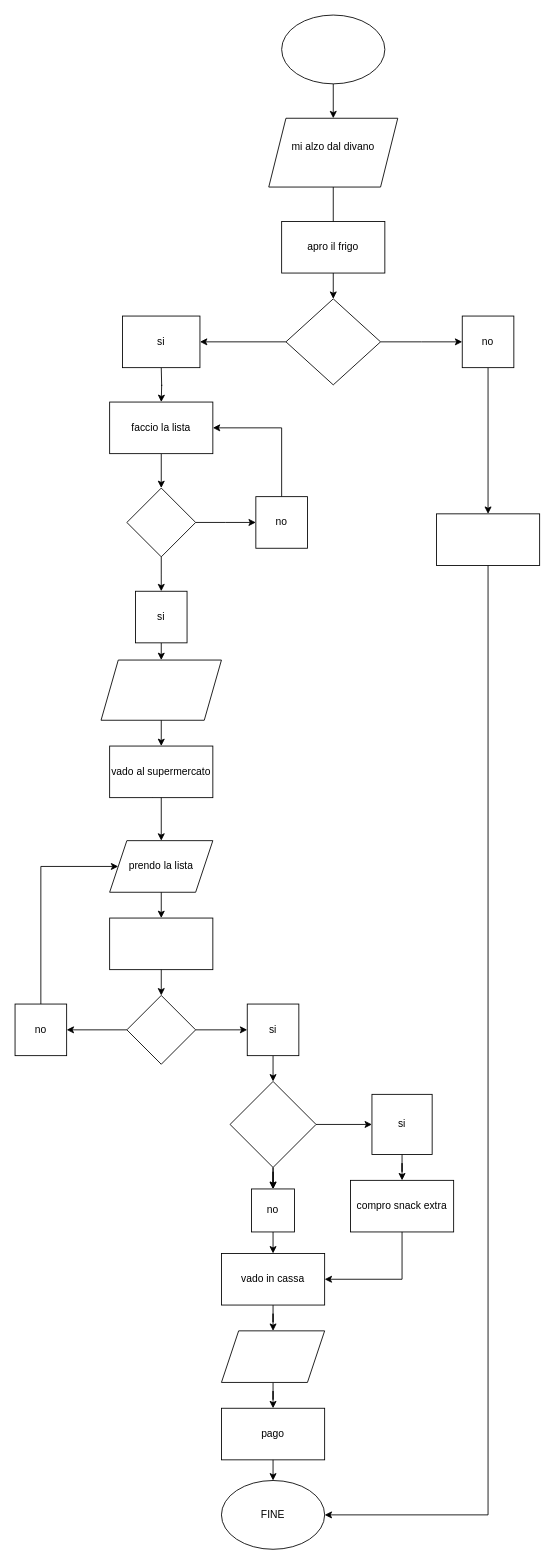
Image size: 555x1564. Some labels were removed from this diagram. Here are the shapes that lost their labels. From the top down, the box of each, then its label:
(281, 14, 385, 84): INIZIO
(285, 298, 381, 385): è vuoto?
(126, 487, 196, 557): ho segnato tutto?
(436, 513, 540, 565): Mi risiedo sul divano
(100, 659, 221, 720): prendo le chiavi e il coupon e il portafolgio
(109, 917, 213, 970): giro tra gli scaffali
(126, 995, 196, 1064): ho preso tutto?
(229, 1081, 316, 1167): avanzo soldi?
(221, 1330, 325, 1382): prendo coupon e portafoglio
